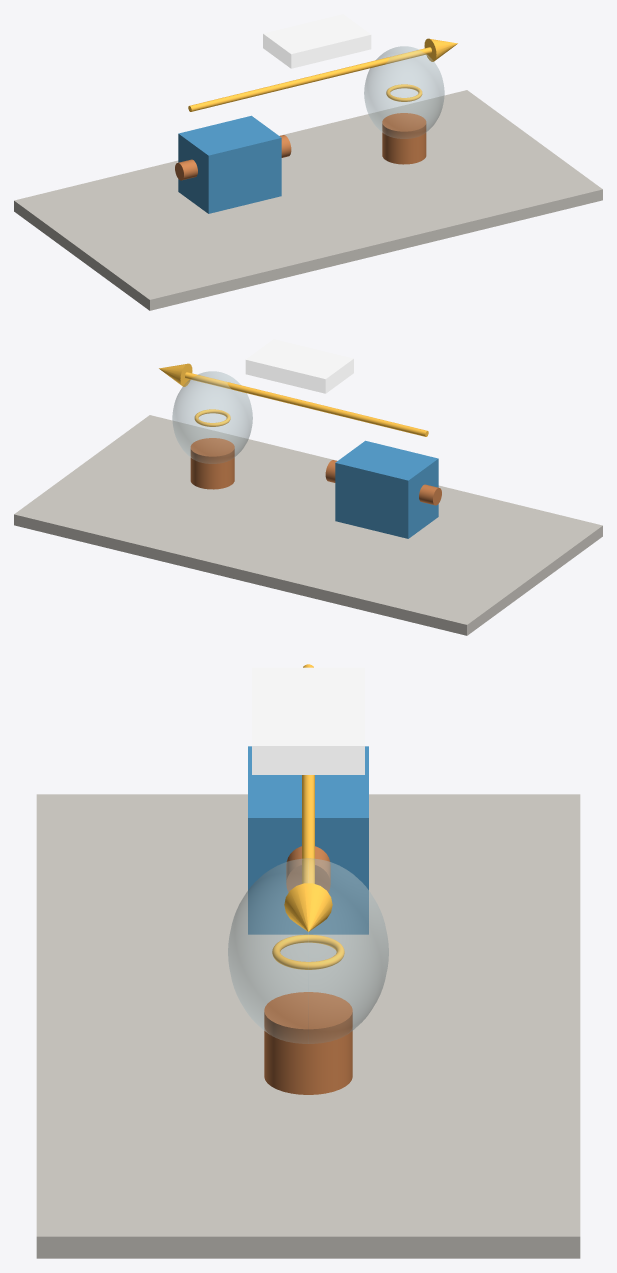
Rendered from physics-electricity-voltage.glb.
3 views of the same model, one above another, from view 1: azimuth 30°, elevation 25°; view 2: azimuth 150°, elevation 25°; view 3: azimuth 270°, elevation 25° (orthographic). The views are drawn at different scales.
Visible parts, largest first — view 1: circuit-base, battery-case, glass-bulb, voltmeter-card, bulb-base, voltage-difference-arrow-shaft, voltage-difference-arrow-head; view 2: circuit-base, battery-case, glass-bulb, voltmeter-card, bulb-base, voltage-difference-arrow-shaft, voltage-difference-arrow-head; view 3: circuit-base, glass-bulb, battery-case, voltmeter-card, bulb-base, voltage-difference-arrow-head, voltage-difference-arrow-shaft, glowing-filament, positive-terminal.
Part boxes in pixels (x1=…): circuit-base: x1=14, y1=90, x2=602, y2=310; battery-case: x1=178, y1=115, x2=281, y2=213; glass-bulb: x1=364, y1=46, x2=444, y2=138; voltmeter-card: x1=263, y1=14, x2=371, y2=68; bulb-base: x1=382, y1=113, x2=426, y2=164; voltage-difference-arrow-shaft: x1=188, y1=47, x2=431, y2=111; voltage-difference-arrow-head: x1=424, y1=38, x2=457, y2=61; circuit-base: x1=14, y1=415, x2=602, y2=635; battery-case: x1=335, y1=440, x2=438, y2=538; glass-bulb: x1=172, y1=371, x2=252, y2=463; voltmeter-card: x1=245, y1=339, x2=353, y2=393; bulb-base: x1=190, y1=438, x2=234, y2=489; voltage-difference-arrow-shaft: x1=185, y1=372, x2=428, y2=436; voltage-difference-arrow-head: x1=159, y1=363, x2=192, y2=386; circuit-base: x1=36, y1=794, x2=580, y2=1258; glass-bulb: x1=228, y1=858, x2=388, y2=1043; battery-case: x1=248, y1=746, x2=368, y2=934; voltmeter-card: x1=252, y1=667, x2=364, y2=774; bulb-base: x1=264, y1=992, x2=352, y2=1094; voltage-difference-arrow-head: x1=284, y1=883, x2=332, y2=931; voltage-difference-arrow-shaft: x1=302, y1=664, x2=314, y2=883; glowing-filament: x1=272, y1=934, x2=344, y2=969; positive-terminal: x1=286, y1=846, x2=330, y2=892.
Size of what is drawn, in the model's own units: 2.6 by 0.93 by 1.35.
